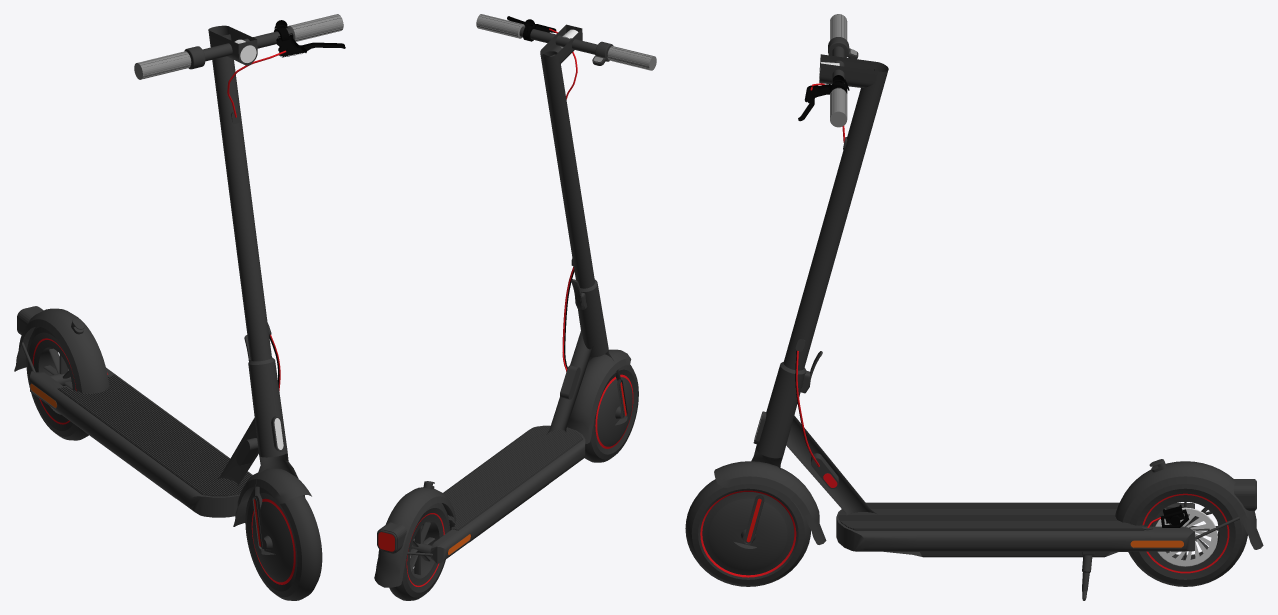
File: Xiaomi Electric Scooter 4.fbx
3 renders of one model, left to right at view 1: azimuth 30°, elevation 25°; view 2: azimuth 150°, elevation 25°; view 3: azimuth 270°, elevation 25°, orthographic. The views are drawn at different scales.
Parts seen in each view (by area): view 1: Xiaomi Electric Scooter 4 Pro; view 2: Xiaomi Electric Scooter 4 Pro; view 3: Xiaomi Electric Scooter 4 Pro.
Part boxes in pixels (x1,y1,x2,y2): Xiaomi Electric Scooter 4 Pro: (14,14,345,600); Xiaomi Electric Scooter 4 Pro: (374,14,656,600); Xiaomi Electric Scooter 4 Pro: (685,14,1263,600).
Bounding box in the file's own units: 48.12 × 122 × 120.
